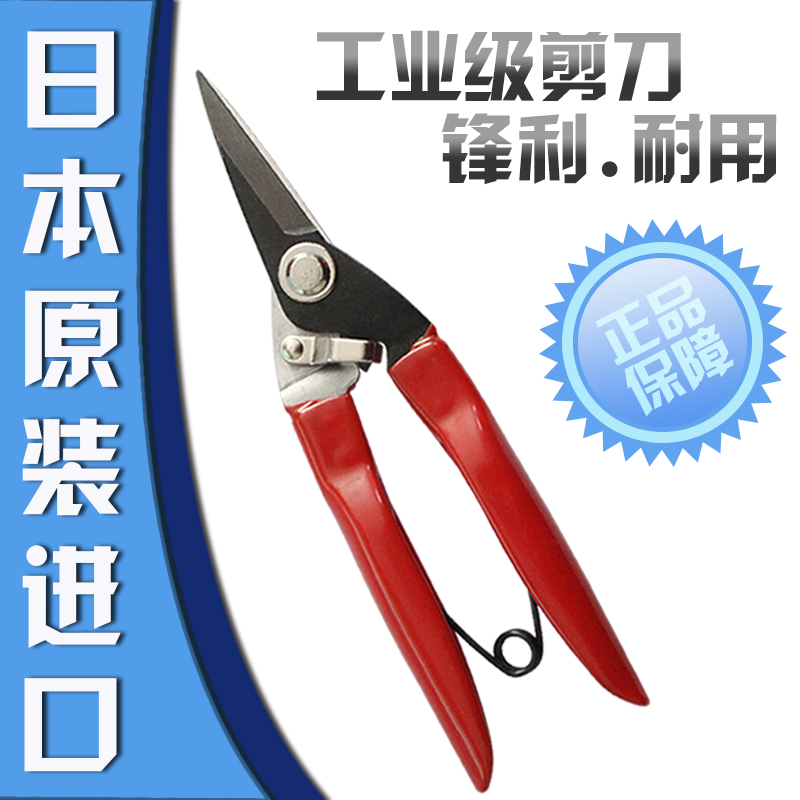scissors: (183, 62, 676, 798)
